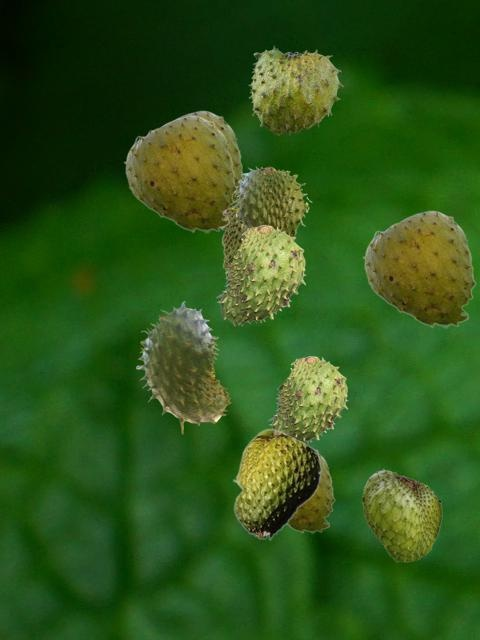guyabano: (123, 115, 236, 233), (362, 210, 475, 328), (136, 301, 230, 433), (232, 428, 321, 540), (147, 110, 243, 211), (216, 225, 305, 325), (248, 45, 342, 134), (362, 468, 441, 561), (268, 356, 347, 443), (232, 166, 311, 235), (288, 449, 334, 533), (221, 203, 244, 276)
